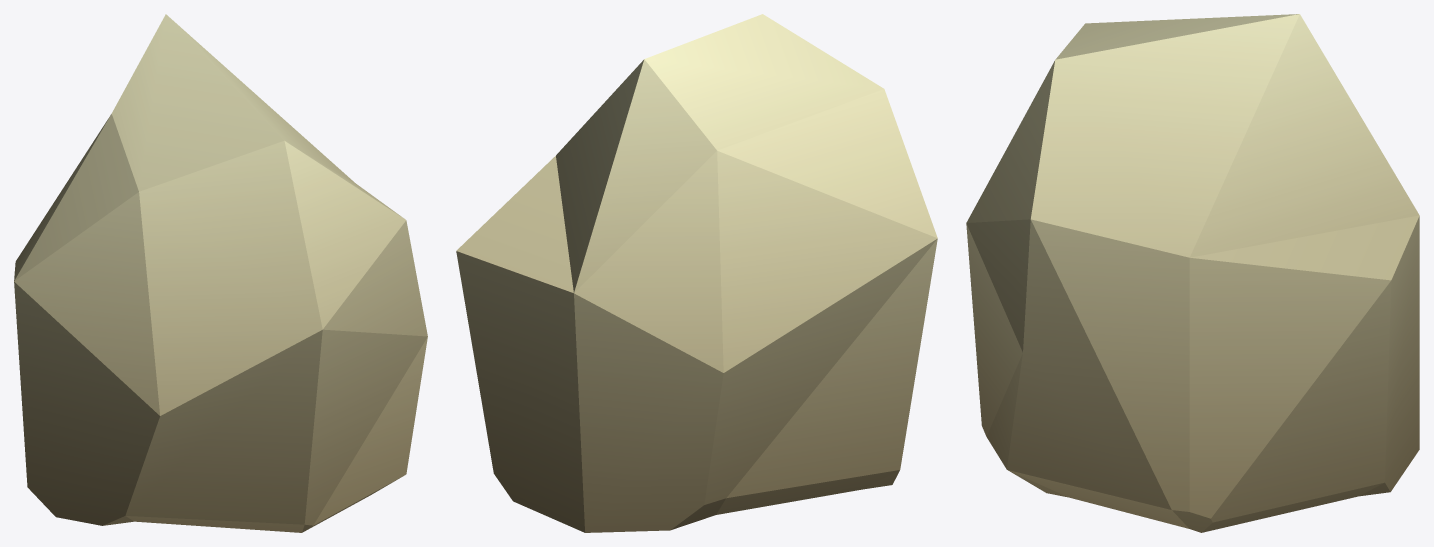
File: Rock_04.fbx
3 renders of one model, left to right at view 1: azimuth 30°, elevation 25°; view 2: azimuth 150°, elevation 25°; view 3: azimuth 270°, elevation 25°, orthographic. The views are drawn at different scales.
Visible parts, largest first — view 1: Rock_04_Mesh; view 2: Rock_04_Mesh; view 3: Rock_04_Mesh.
Boxes of the visible parts, x1,y1,x2,y2 form: Rock_04_Mesh: (14, 14, 427, 532); Rock_04_Mesh: (456, 14, 937, 532); Rock_04_Mesh: (966, 14, 1419, 532).
Size of the model in its own units: 247 by 244 by 230.
